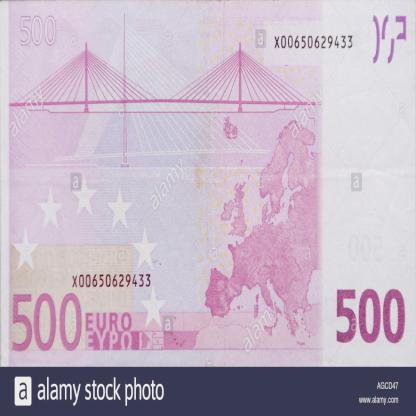euro_banknote: (11, 3, 413, 360)
